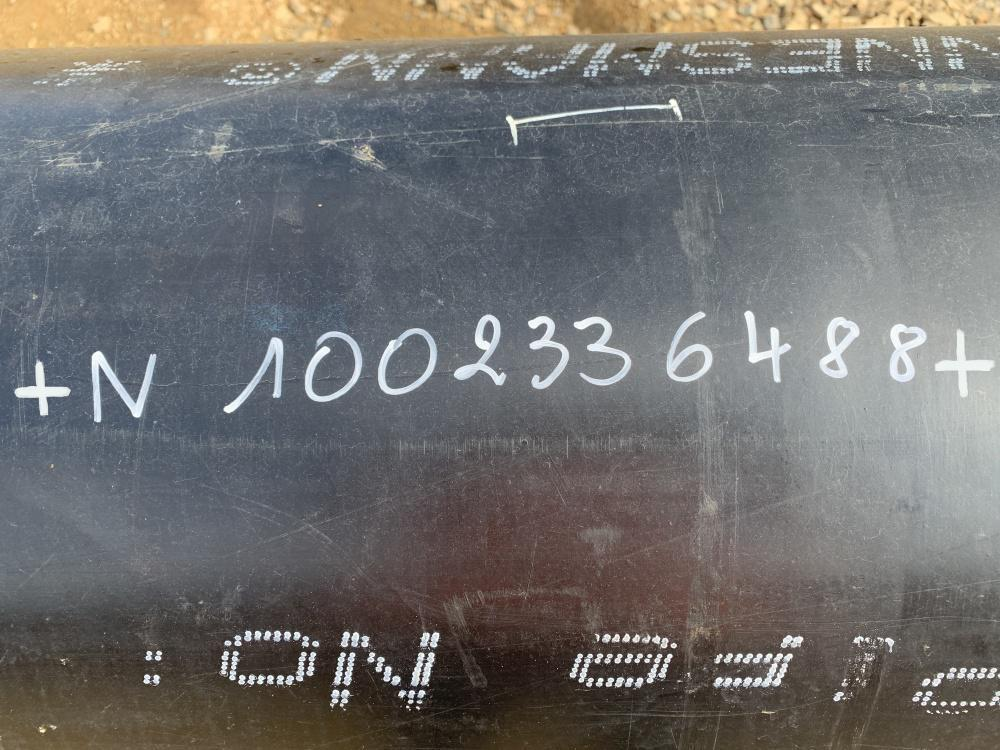+: (934, 328, 994, 398), (12, 358, 70, 416)
0: (302, 328, 364, 406), (377, 326, 440, 399)
1: (220, 336, 288, 416)
2: (455, 314, 508, 384)
3: (574, 314, 632, 388), (524, 312, 569, 393)
4: (738, 308, 790, 386)
6: (667, 314, 716, 380)
8: (816, 315, 858, 386), (886, 318, 928, 384)
N: (88, 346, 156, 428)
